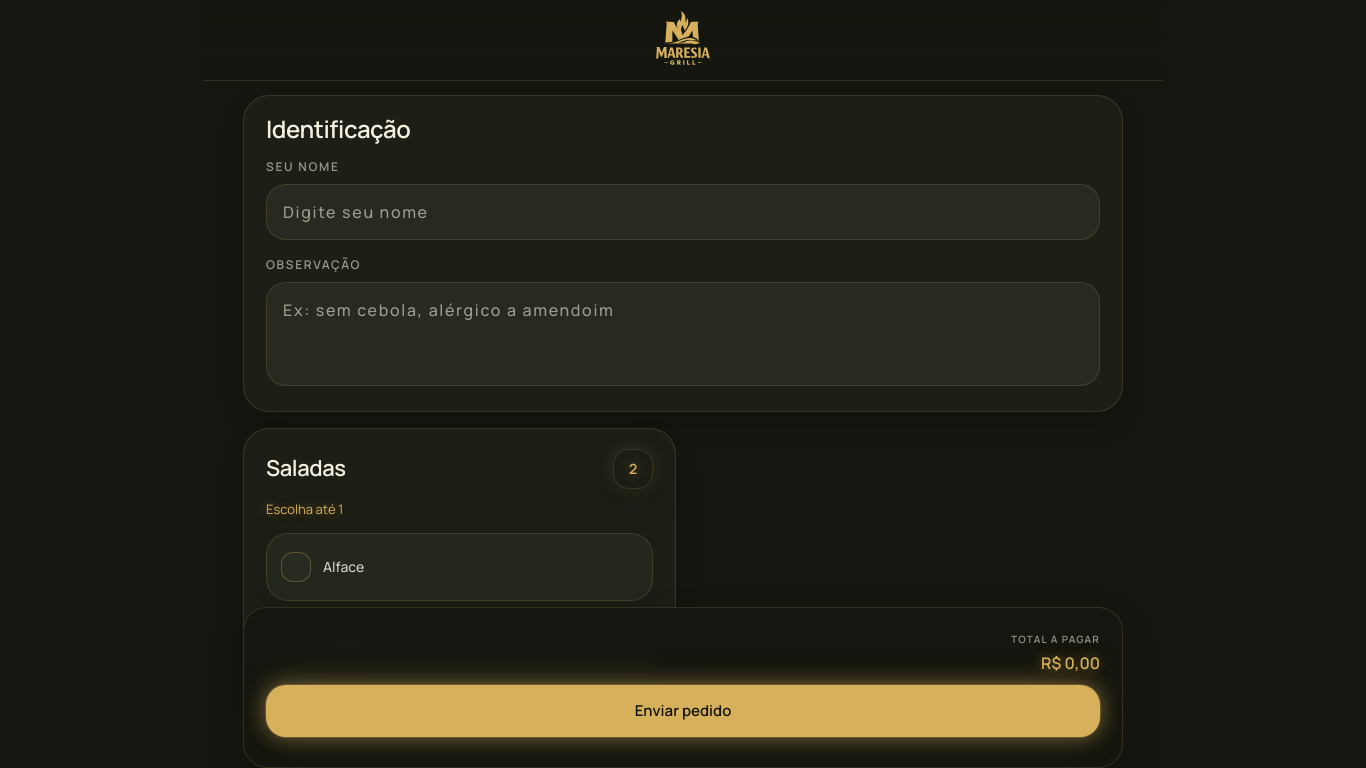
Test: App › disables the remaining public items when a category reaches its maximum
The image size is (1366, 768).
Click the button with aria-label "Adicionar Alface do menu do dia".
click(344, 567)  # box [266,533,653,601]
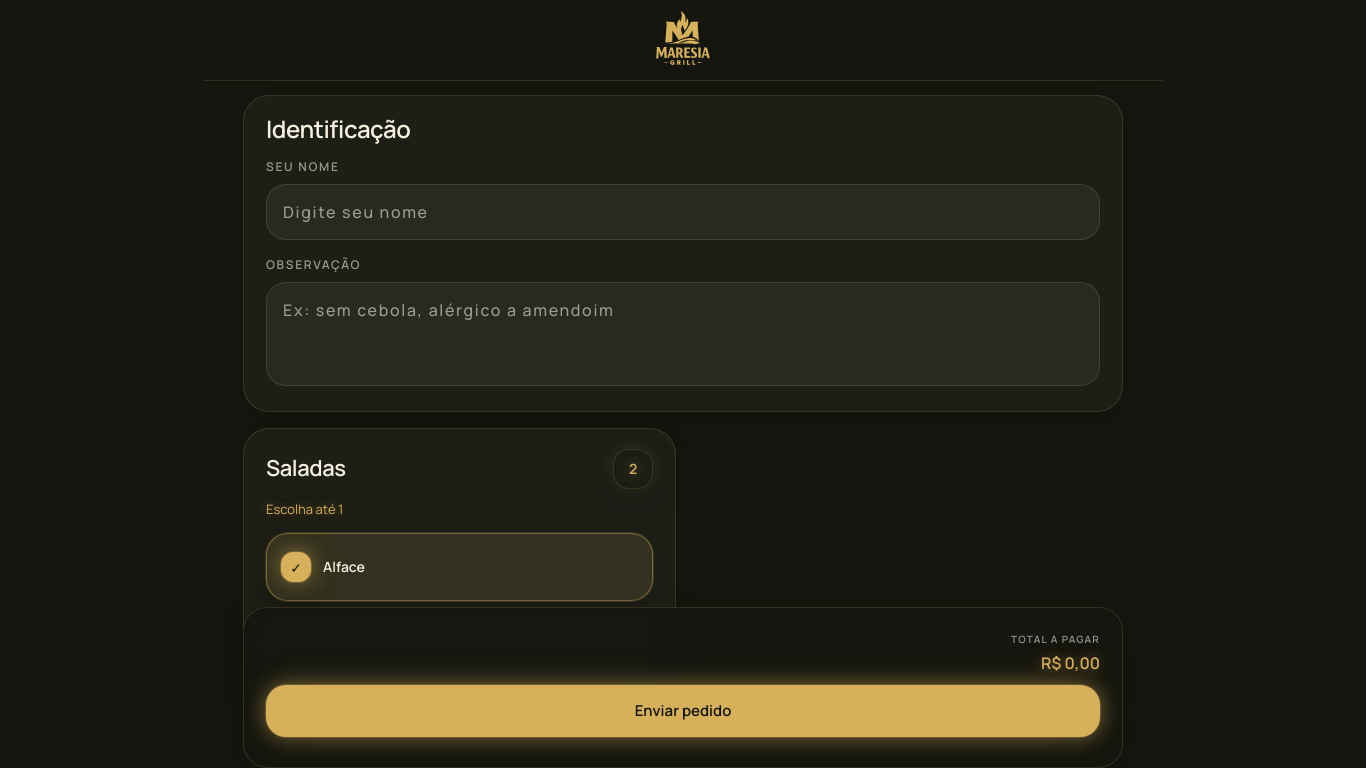
Expected: the button with aria-label "Adicionar Tomate do menu do dia" is disabled, [266,611,653,679]
Now the button with aria-label "Remover Alface do menu do dia" is shown, box [266,533,653,601]
